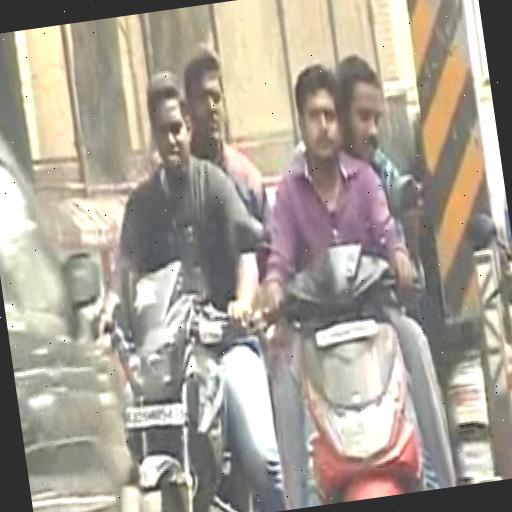no helmet: (48, 37, 258, 512), (230, 48, 420, 507)
